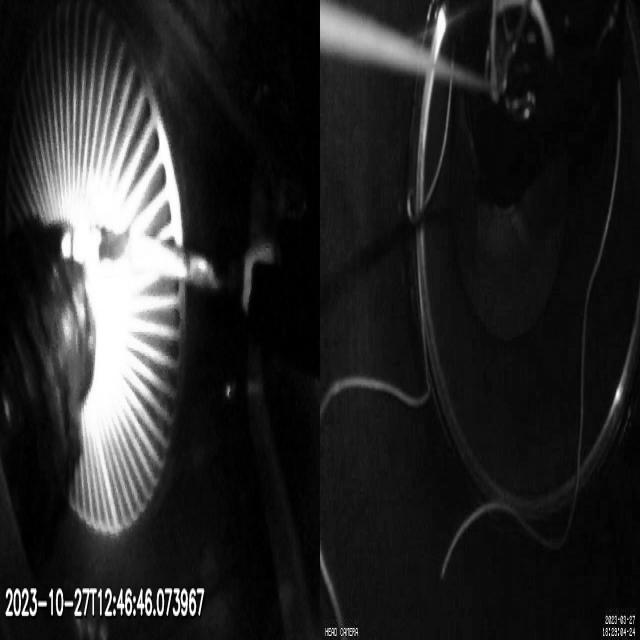head: (239, 239, 291, 311)
white-dots: (61, 219, 104, 268)
